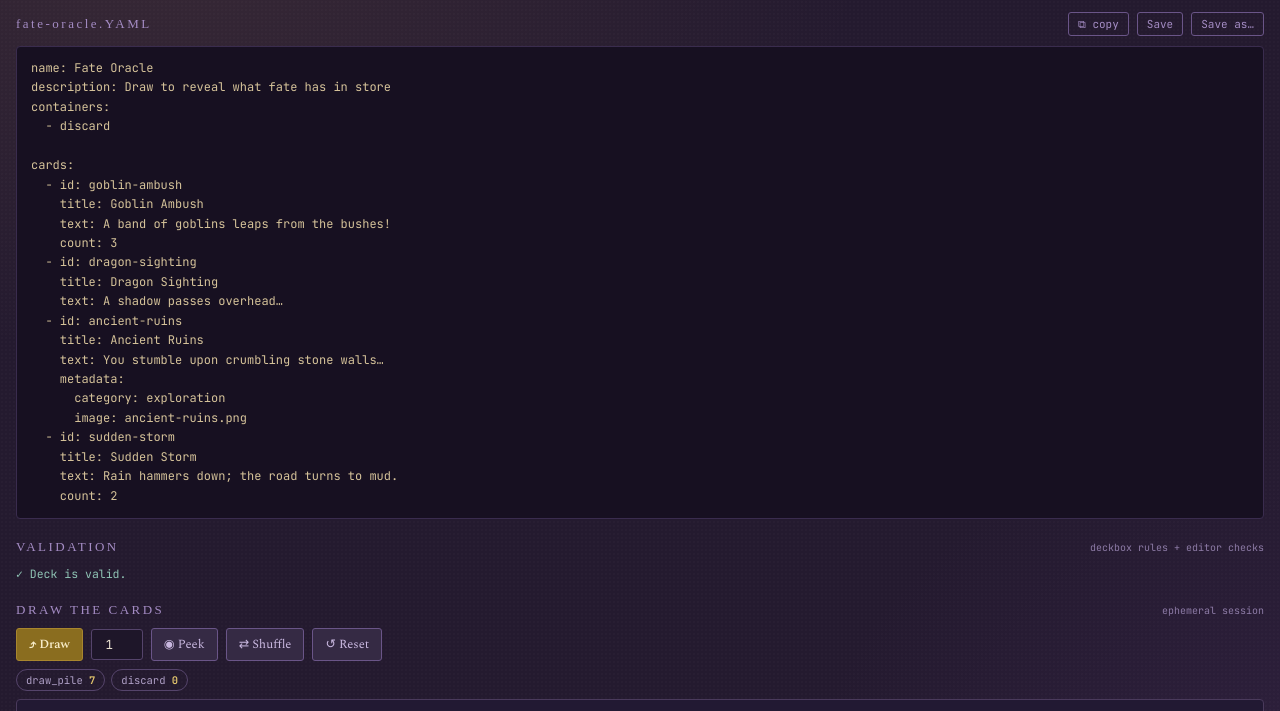
DRAW THE CARDS › Reset restores chips to the pre-draw state and clears output
The image size is (1280, 711).
Replace the text in the number field with "3" at (117, 645), box x1=91 y1=629 x2=143 y2=660
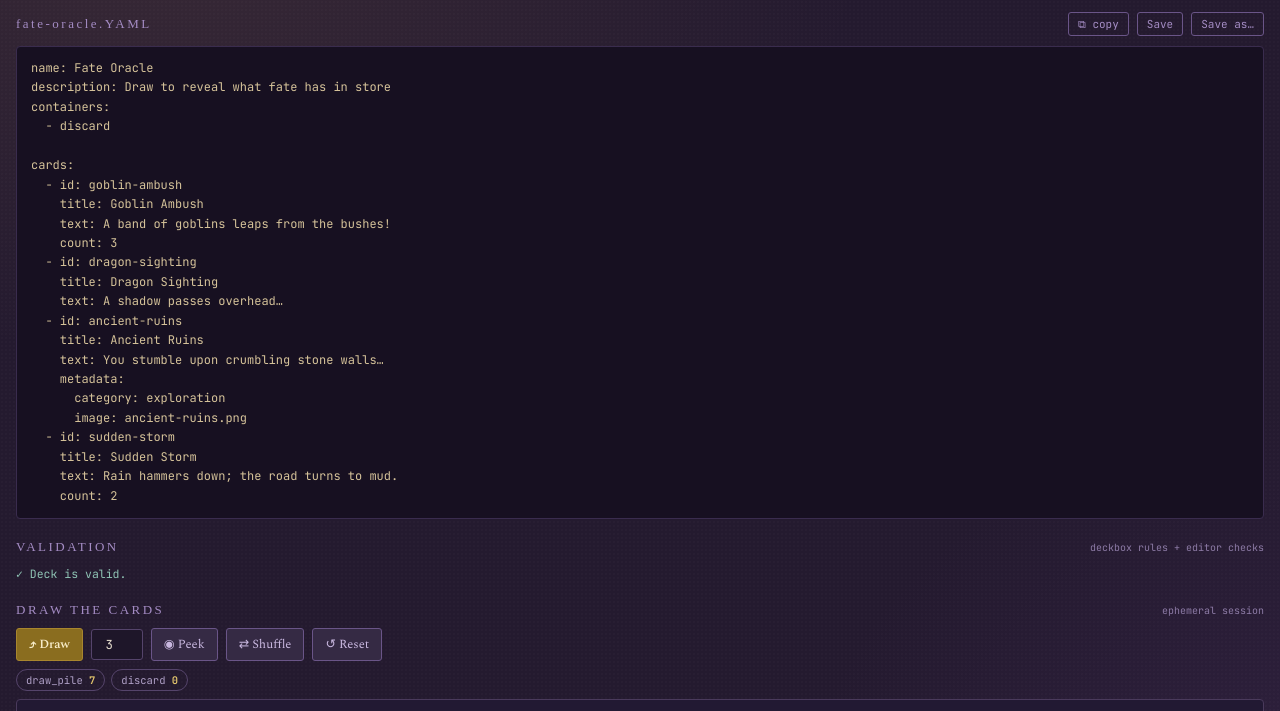
Click the button "⤴ Draw" at (49, 645), box x1=16 y1=628 x2=83 y2=661
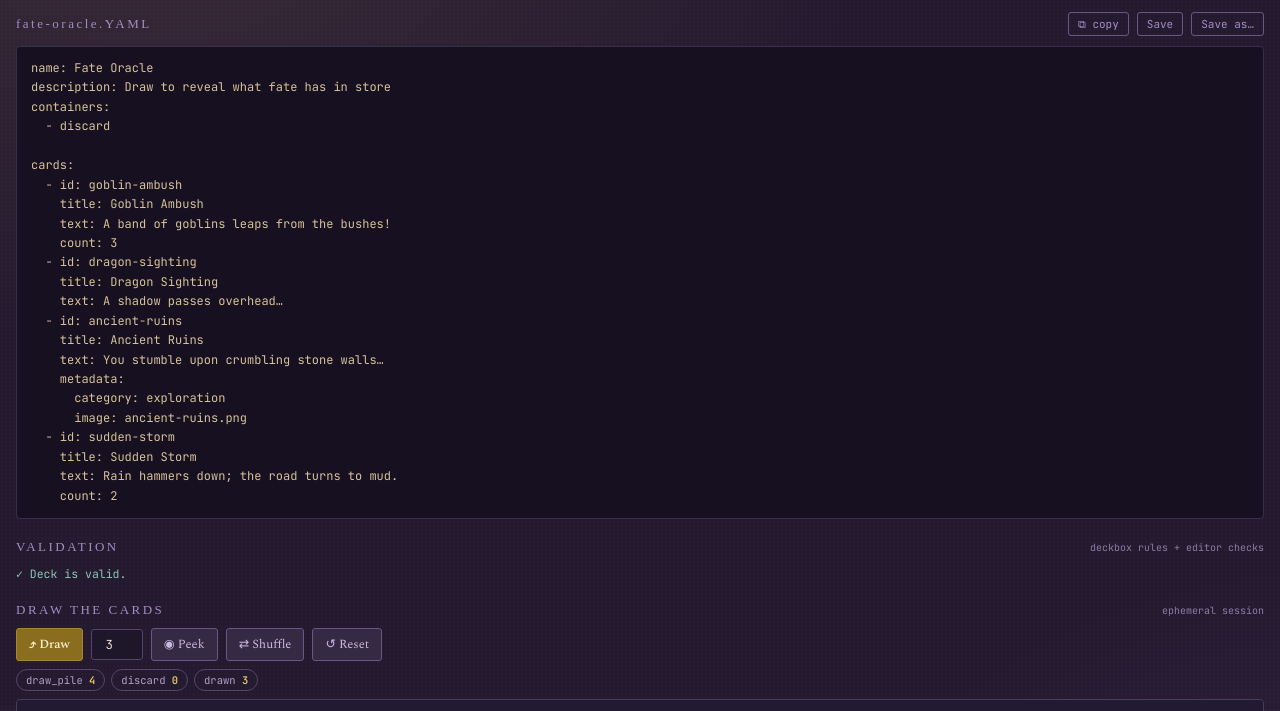
Click the button "↺ Reset" at (347, 645), box x1=312 y1=628 x2=382 y2=661
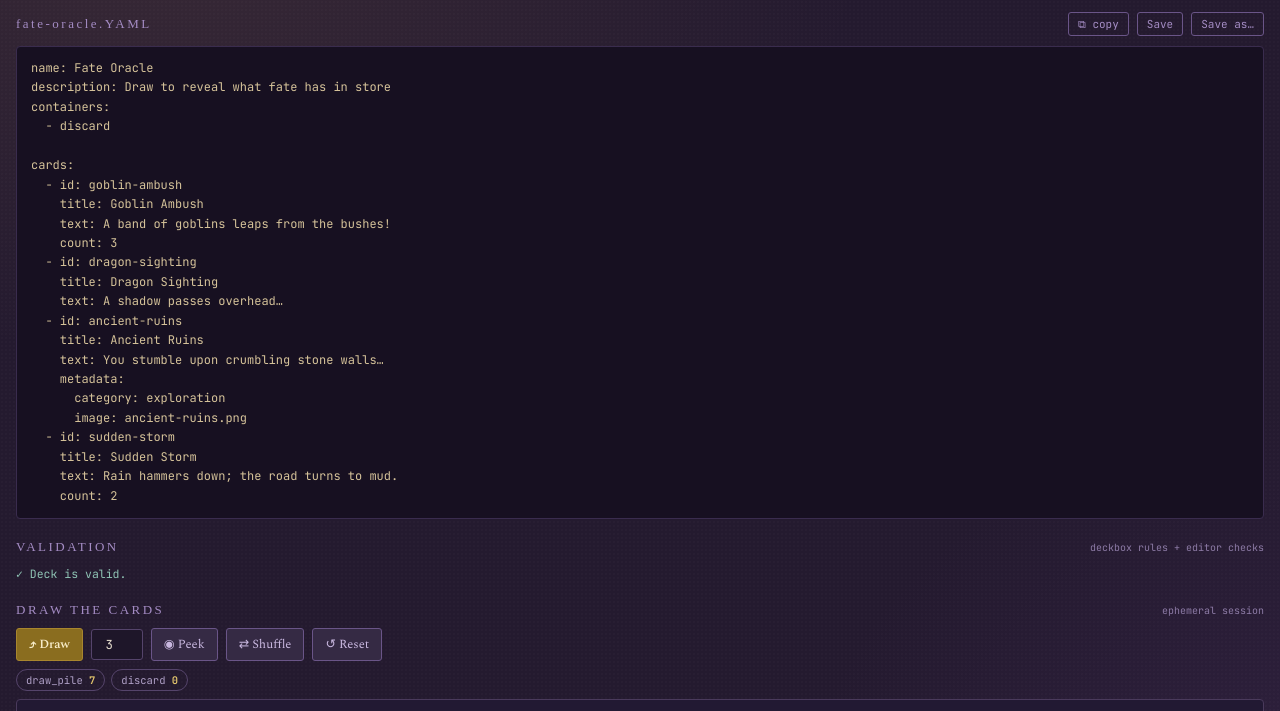
expect the button "⤴ Draw" is enabled: met, box x1=16 y1=628 x2=83 y2=661
expect the element with test id "pile-chip-draw_pile" reads "draw_pile 7": met, box x1=16 y1=669 x2=105 y2=691
expect the element with test id "pile-chip-drawn" is gone: met
